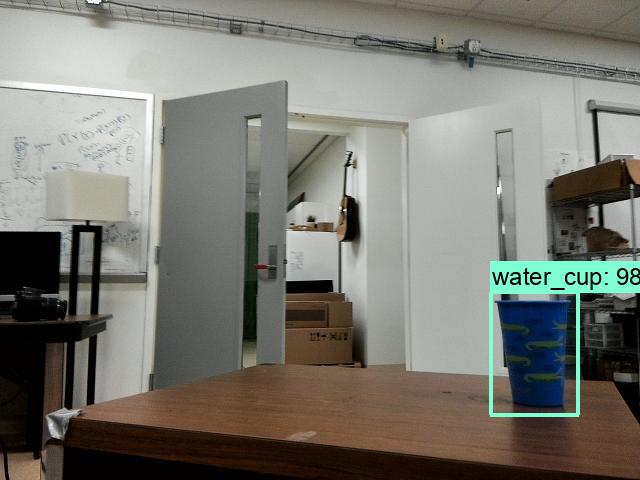water_cup: (493, 297, 573, 412)
